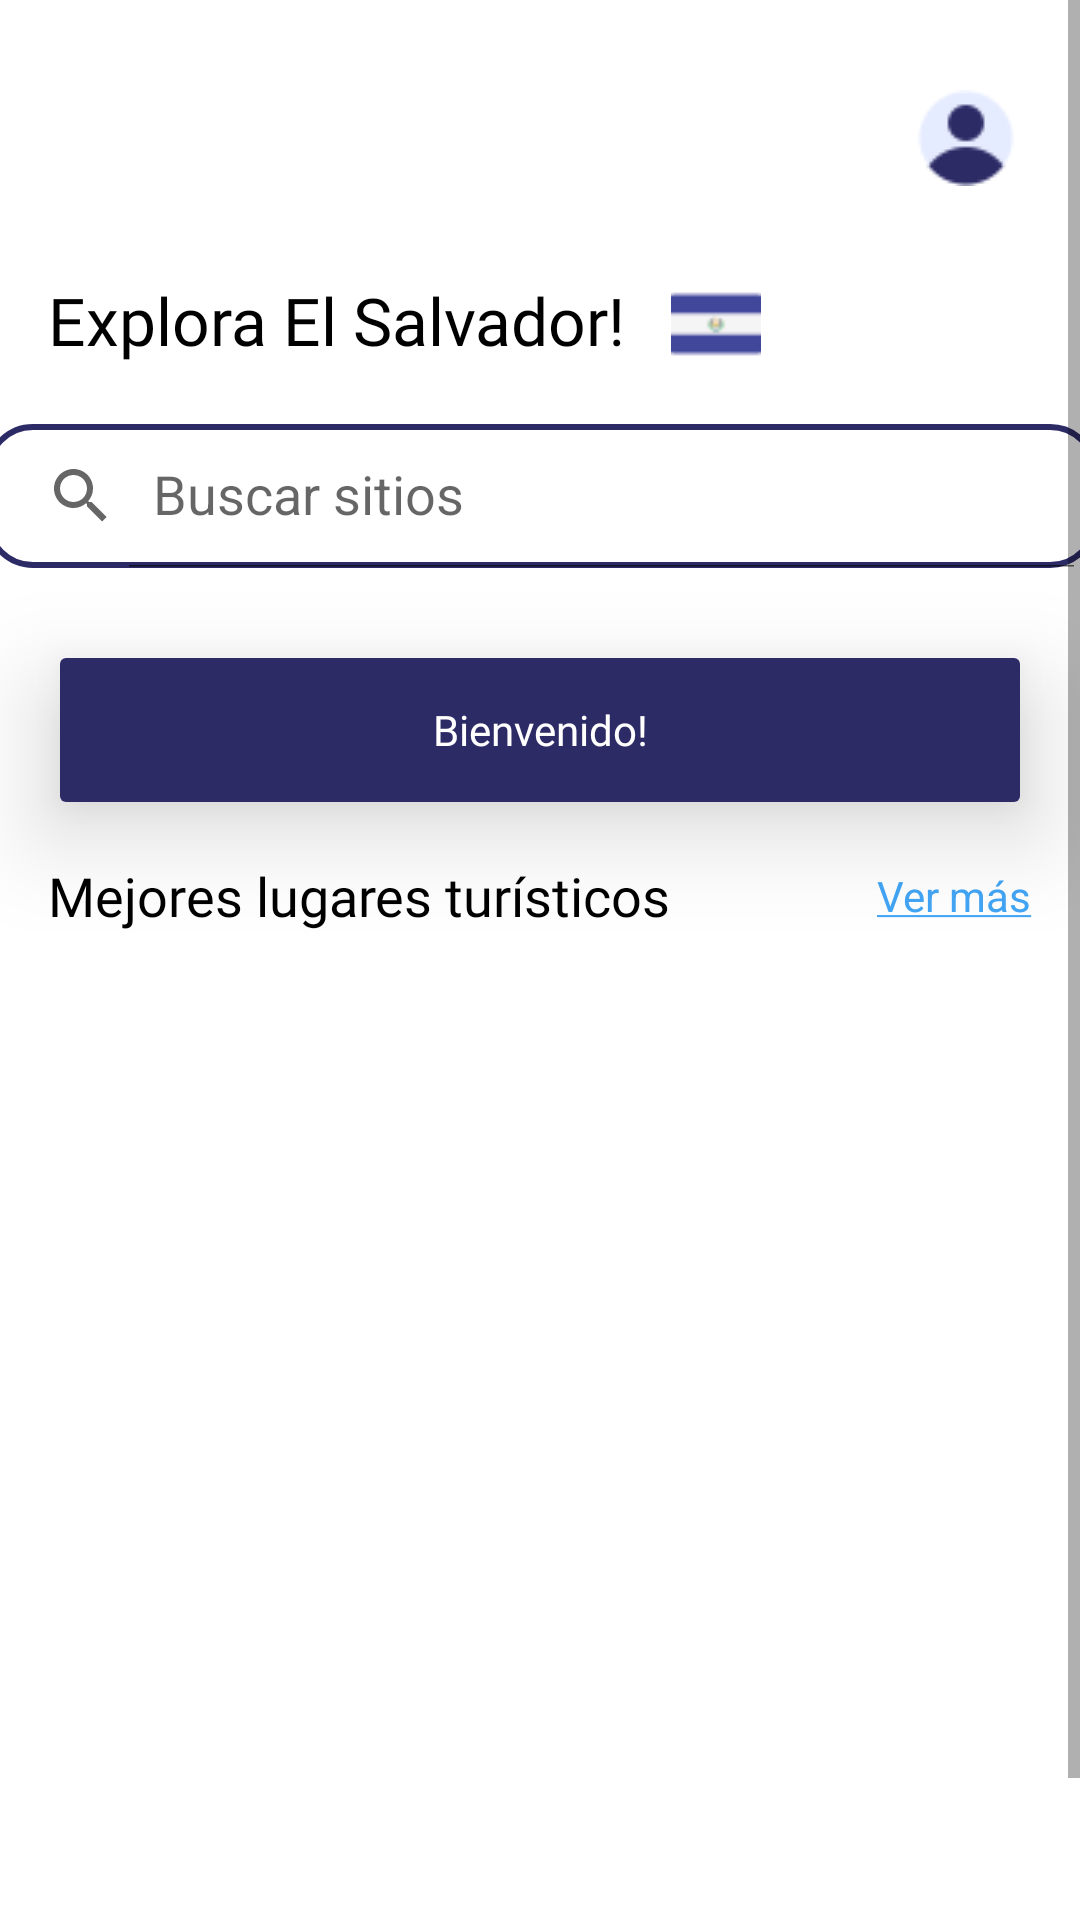

Screen size 1080w x 1920h. Icon name, then its box in pixels as (x1, y1, x2, y2):
usuario: (922, 94, 1010, 186)
